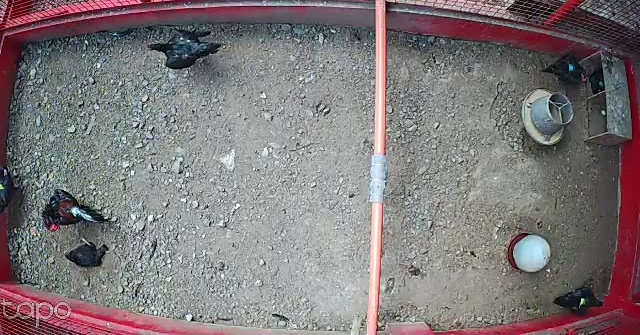Chicken: (145, 26, 221, 70), (538, 49, 593, 90), (548, 286, 608, 316), (64, 236, 113, 271), (0, 162, 29, 216)
Rooster: (41, 188, 114, 235)
Saddle_Color_Blue: (569, 64, 576, 72)
Saddle_Color_Yellow: (0, 183, 5, 191)
Saddle_Color_YellowGreen: (580, 297, 589, 307)
